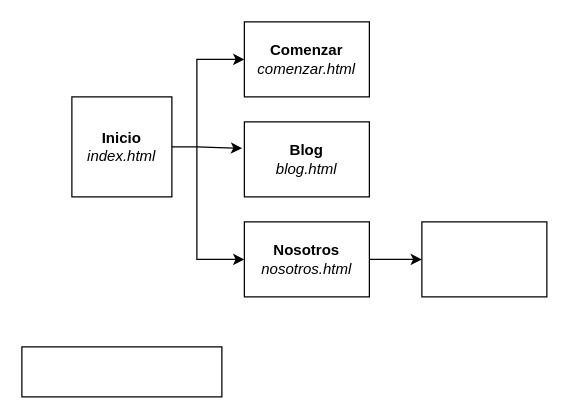
The diagram is 569 pixels wide and 419 high, and some of its shapes have lost their labels. Each missing label, with the centre of its shape:
Contacto contacto.html: point 484,259
Árbol de sitio web: point 121,371
